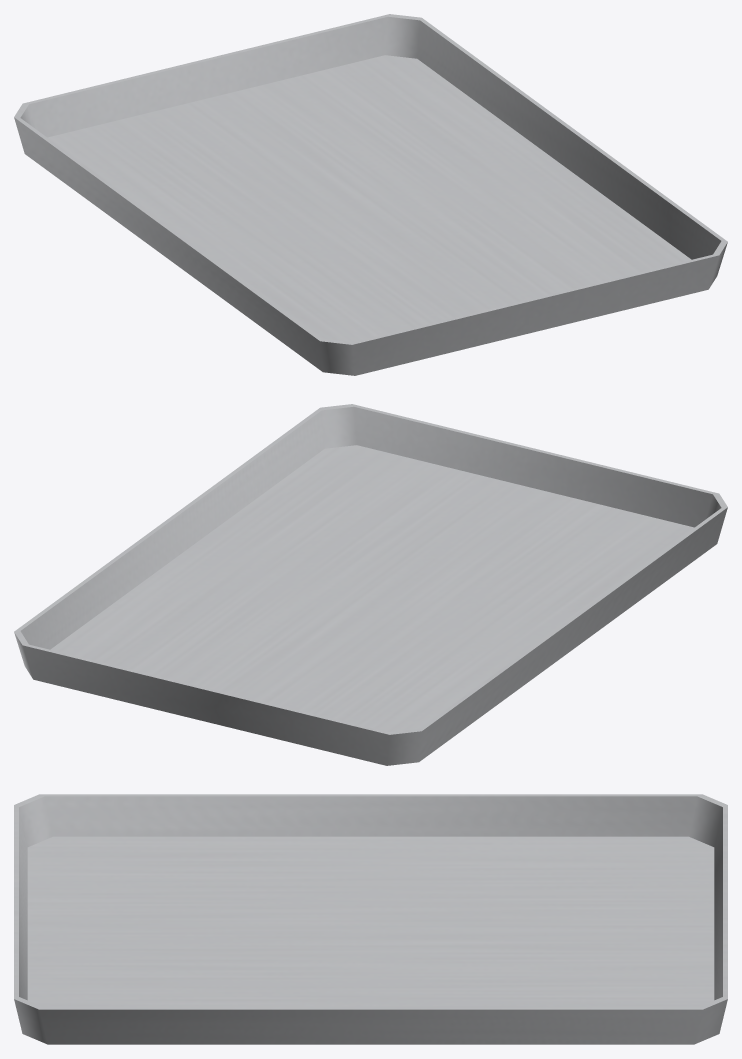
The model's file is tray.glb.
3 renders of one model, top to bottom at view 1: azimuth 30°, elevation 25°; view 2: azimuth 150°, elevation 25°; view 3: azimuth 270°, elevation 25°, orthographic. The views are drawn at different scales.
Parts seen in each view (by area): view 1: t1_tray; view 2: t1_tray; view 3: t1_tray.
Boxes of the visible parts, bbox=[...] form: t1_tray: bbox=[14, 14, 727, 375]; t1_tray: bbox=[14, 404, 727, 765]; t1_tray: bbox=[14, 794, 727, 1044].
Bounding box in the file's own units: 0.3 × 0.025 × 0.42.
Materials: 1 (1 with a texture image).
